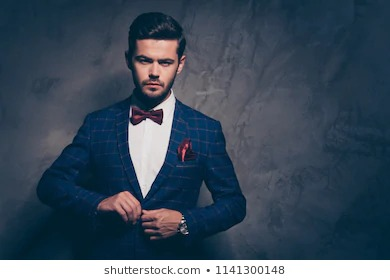F_M_suit jacket: (32, 85, 248, 260)
